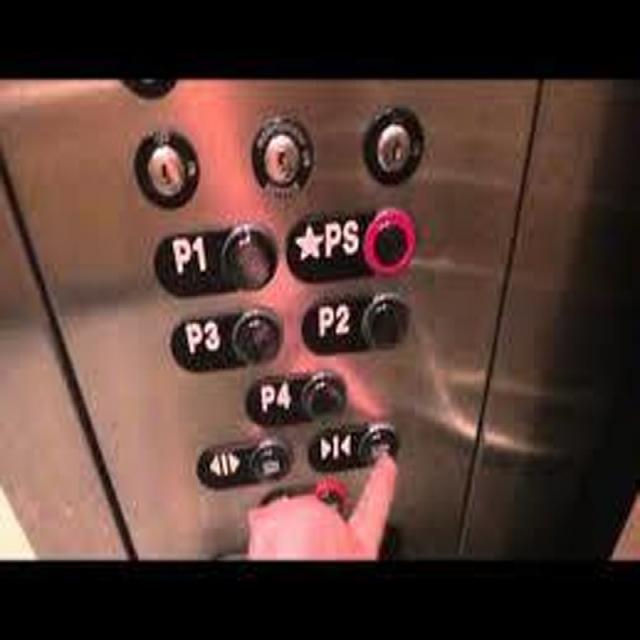P1: (149, 220, 279, 297)
P2: (296, 286, 413, 358)
P3: (164, 304, 290, 376)
P4: (241, 368, 348, 428)
close: (304, 416, 404, 475)
keyhole: (133, 128, 200, 211), (250, 116, 314, 200), (361, 102, 425, 186)
open: (190, 430, 293, 494)
sPS: (282, 202, 417, 282)
